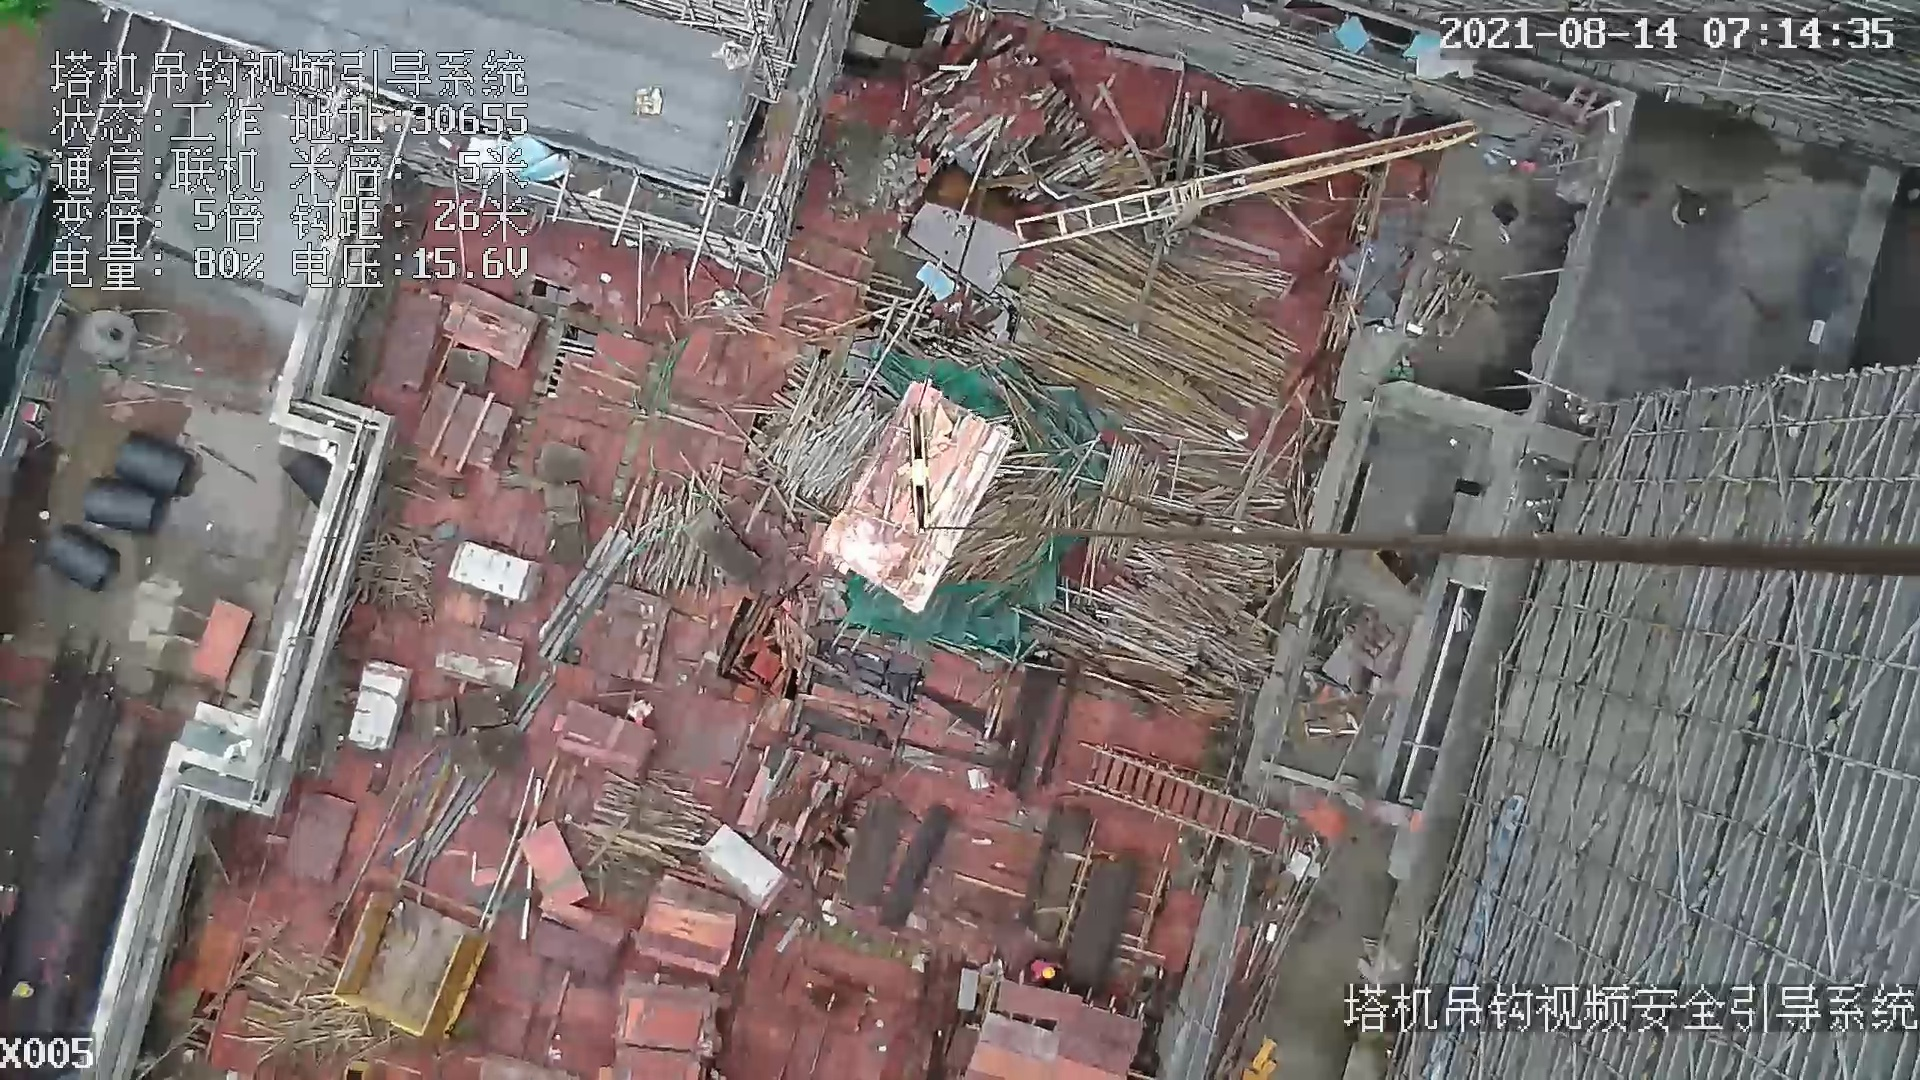hook: (895, 400, 940, 530)
